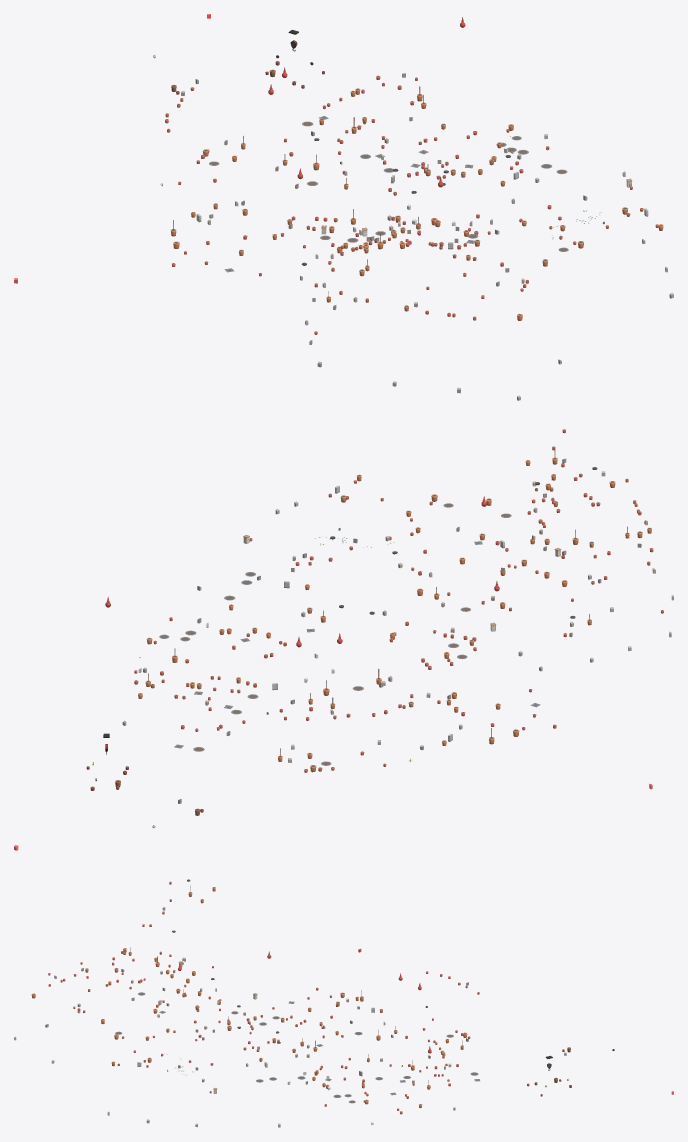
The model's file is props.glb.
The picture shows the model from 3 angles, top to bottom: view 1: azimuth 30°, elevation 25°; view 2: azimuth 150°, elevation 25°; view 3: azimuth 270°, elevation 25°; orthographic projection. The views are drawn at different scales.
Visible parts, largest first — view 1: Props.007, Props.005, Props.001, Props.006, Props.008, Props.009, Props.003; view 2: Props.007, Props.005, Props.001, Props.006, Props.008, Props.009; view 3: Props.007, Props.005, Props.001, Props.006, Props.008, Props.009.
Part boxes in pixels (x1,y1,x2,y2): Props.007: [300, 117, 561, 400]; Props.005: [391, 124, 587, 225]; Props.001: [302, 17, 510, 175]; Props.006: [500, 154, 673, 298]; Props.008: [331, 117, 514, 302]; Props.009: [272, 154, 416, 241]; Props.003: [160, 67, 293, 205]; Props.007: [410, 429, 673, 671]; Props.005: [138, 580, 343, 690]; Props.001: [105, 597, 294, 751]; Props.006: [243, 474, 453, 589]; Props.008: [382, 460, 530, 656]; Props.009: [308, 581, 499, 708]; Props.007: [14, 879, 229, 1063]; Props.005: [269, 1038, 373, 1127]; Props.001: [375, 1040, 479, 1114]; Props.006: [107, 1026, 267, 1127]; Props.008: [184, 899, 266, 1082]; Props.009: [253, 951, 380, 1062].
Bounding box in the file's own units: 27.29 × 10.52 × 43.18.
10 materials, 10 textured.
